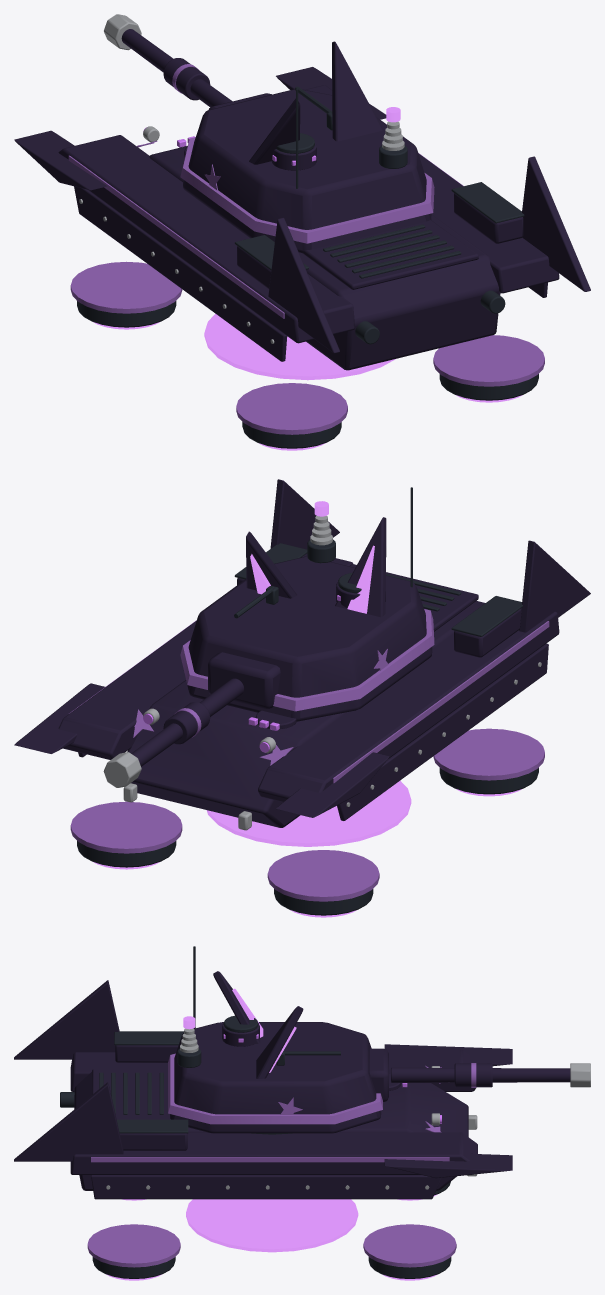
Rendered from katzen_prisma.glb.
3 renders of one model, top to bottom at view 1: azimuth 30°, elevation 25°; view 2: azimuth 150°, elevation 25°; view 3: azimuth 270°, elevation 25°, orthographic. The views are drawn at different scales.
Parts seen in each view (by area): view 1: turret_body, hull_core, fender_-1, skirt_-1, fender_1, pad_ring_-1_-1, engine_deck, belly_glow, pad_ring_1_-1, pad_ring_-1_1, fin_-1, fin_1 (+17 smaller); view 2: turret_body, fender_-1, hull_core, fender_1, skirt_-1, belly_glow, pad_ring_-1_1, pad_ring_1_1, pad_ring_-1_-1, fin_-1, turret_band, mantlet (+17 smaller); view 3: turret_body, fender_1, skirt_1, belly_glow, hull_core, fin_1, fin_-1, pad_ring_1_-1, pad_ring_1_1, fender_-1, turret_band, engine_deck (+16 smaller).
Part boxes in pixels (x1,y1,x2,y2): turret_body: [183, 89, 431, 253]; hull_core: [149, 146, 500, 370]; fender_-1: [58, 135, 354, 343]; skirt_-1: [74, 186, 287, 361]; fender_1: [305, 85, 559, 293]; pad_ring_-1_-1: [236, 383, 347, 434]; engine_deck: [302, 220, 478, 289]; belly_glow: [204, 314, 396, 380]; pad_ring_1_-1: [433, 335, 544, 386]; pad_ring_-1_1: [70, 261, 182, 313]; fin_-1: [268, 217, 339, 353]; fin_1: [522, 156, 590, 291]; turret_body: [183, 556, 432, 721]; fender_-1: [258, 611, 559, 801]; hull_core: [127, 601, 485, 827]; fender_1: [58, 553, 353, 759]; skirt_-1: [337, 643, 548, 820]; belly_glow: [206, 780, 411, 846]; pad_ring_-1_1: [267, 850, 379, 901]; pad_ring_1_1: [70, 801, 182, 853]; pad_ring_-1_-1: [433, 728, 544, 780]; fin_-1: [519, 540, 590, 632]; turret_band: [180, 609, 434, 711]; mantlet: [208, 652, 280, 708]; turret_body: [170, 1022, 381, 1133]; fender_1: [70, 1132, 477, 1174]; skirt_1: [91, 1175, 441, 1199]; belly_glow: [186, 1199, 358, 1252]; hull_core: [74, 1069, 468, 1190]; fin_1: [14, 1082, 123, 1161]; fin_-1: [14, 980, 119, 1059]; pad_ring_1_-1: [87, 1224, 180, 1267]; pad_ring_1_1: [363, 1224, 456, 1267]; fender_-1: [70, 1049, 475, 1091]; turret_band: [168, 1053, 382, 1124]; engine_deck: [92, 1069, 170, 1119].
Bounding box in the file's own units: 1.68 × 1.64 × 3.35.
